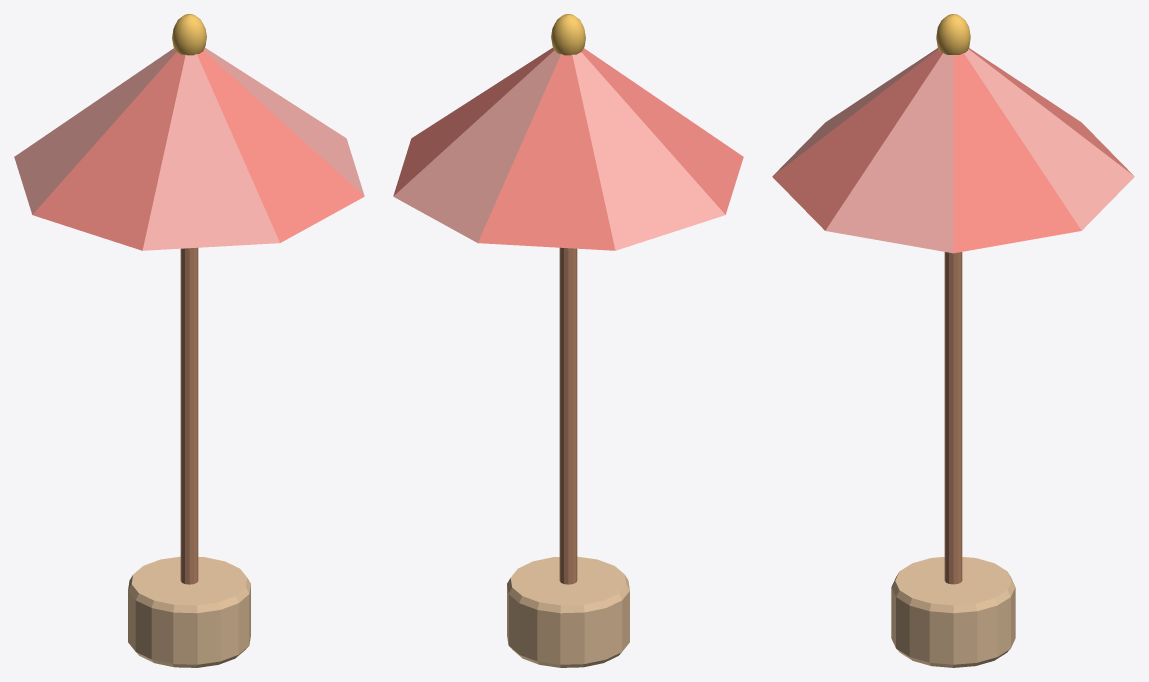
Rendered from street_umbrella.glb.
3 views of the same model, side by side, from view 1: azimuth 30°, elevation 25°; view 2: azimuth 150°, elevation 25°; view 3: azimuth 270°, elevation 25° (orthographic).
Visible parts, largest first — view 1: canopy, model; view 2: canopy, model; view 3: canopy, model.
Part boxes in pixels (<box>): canopy: <box>14,47,364,250</box>; model: <box>128,14,250,667</box>; canopy: <box>393,47,743,250</box>; model: <box>507,14,629,667</box>; canopy: <box>772,48,1134,253</box>; model: <box>891,14,1015,667</box>.
Bounding box in the file's own units: 1.2 × 2.3 × 1.2.
